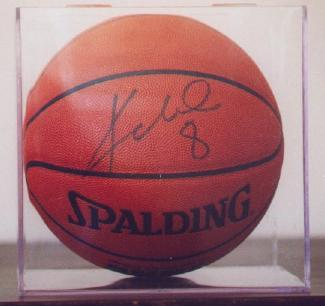basketball: (22, 14, 285, 275)
